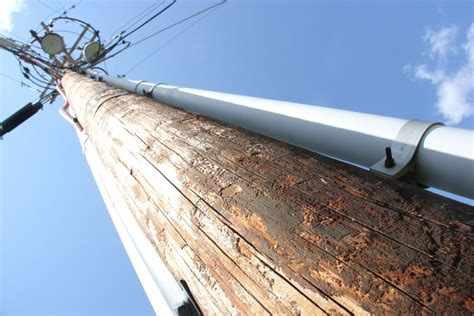pole: (11, 27, 403, 310)
